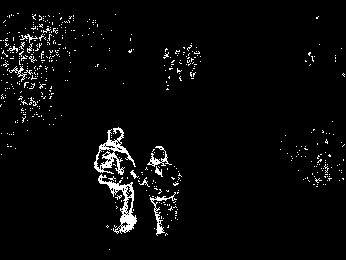person: (93, 125, 138, 233), (136, 143, 182, 237)
